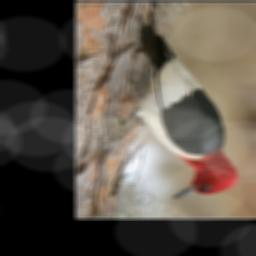Woodpecker: (102, 13, 241, 202)
